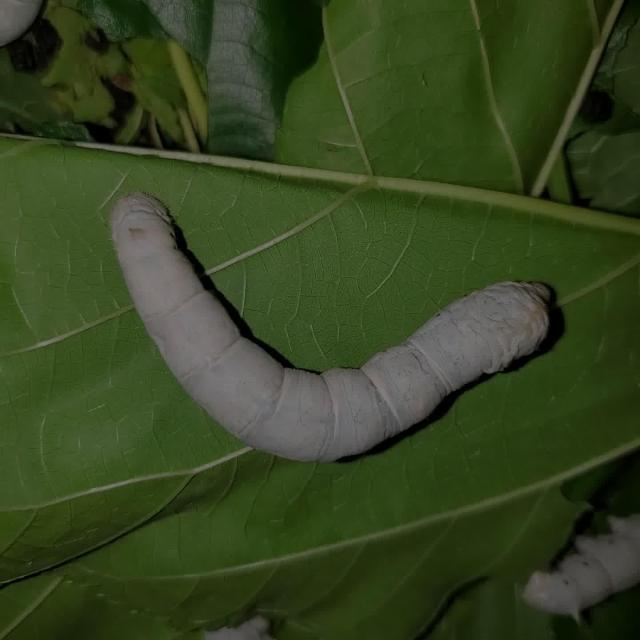Healthy: (86, 154, 571, 483)
